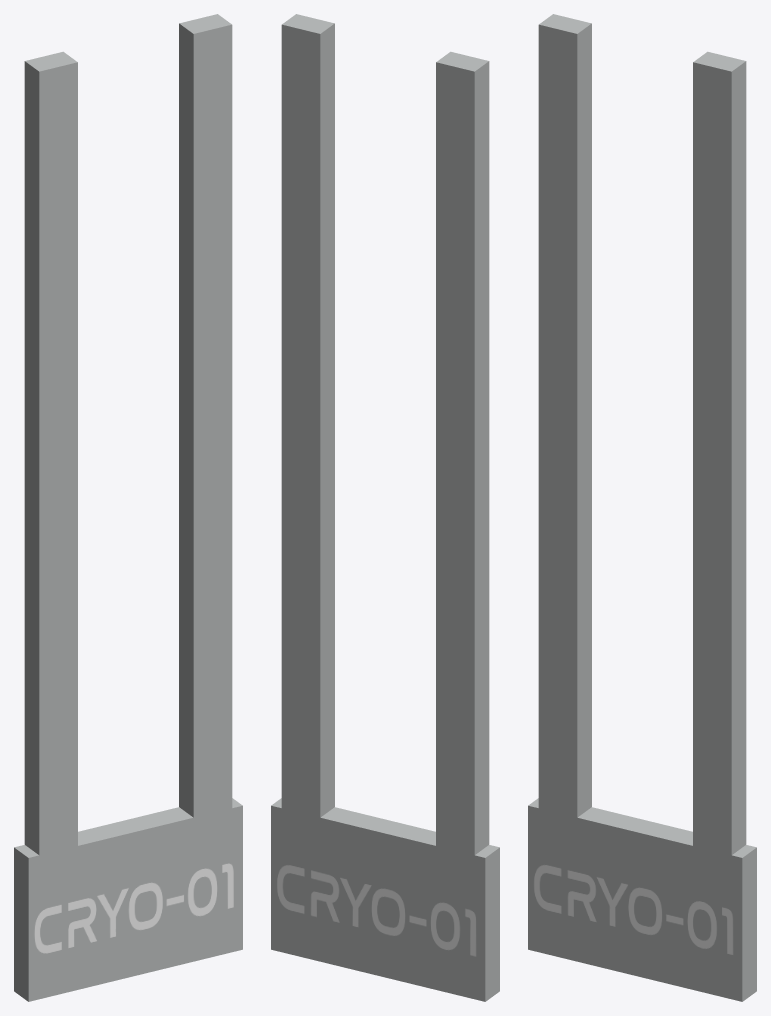
The model's file is Sign.glb.
The picture shows the model from 3 angles, left to right: view 1: azimuth 30°, elevation 25°; view 2: azimuth 150°, elevation 25°; view 3: azimuth 330°, elevation 25°; orthographic projection.
Visible parts, largest first — view 1: CryoSign; view 2: CryoSign; view 3: CryoSign.
Part boxes in pixels (x1,y1,x2,y2): CryoSign: (14,14,242,1001); CryoSign: (271,14,499,1001); CryoSign: (528,14,756,1001).
Size of the model in its own units: 1.08 by 4.46 by 0.126.
1 material, 1 textured.
